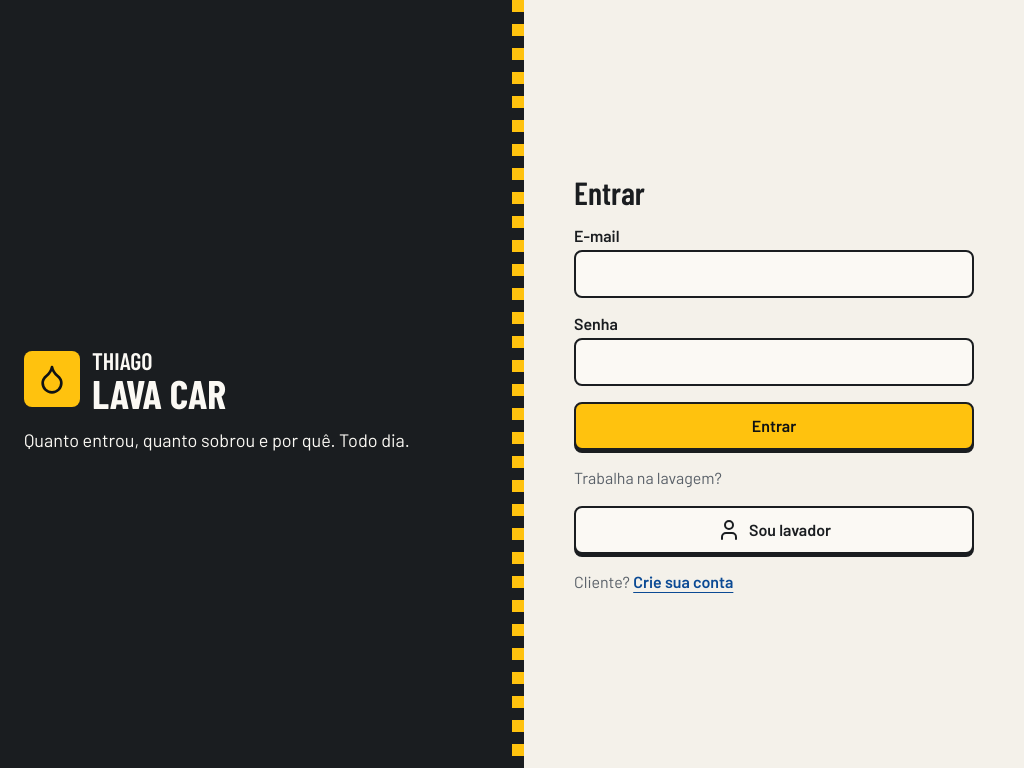
Test: Login › mostra no topo a mensagem da API no erro 401
Step 1. Type "thiago@lavacar.com" into the field labelled "E-mail" → (774, 274), box [574,250,974,298]
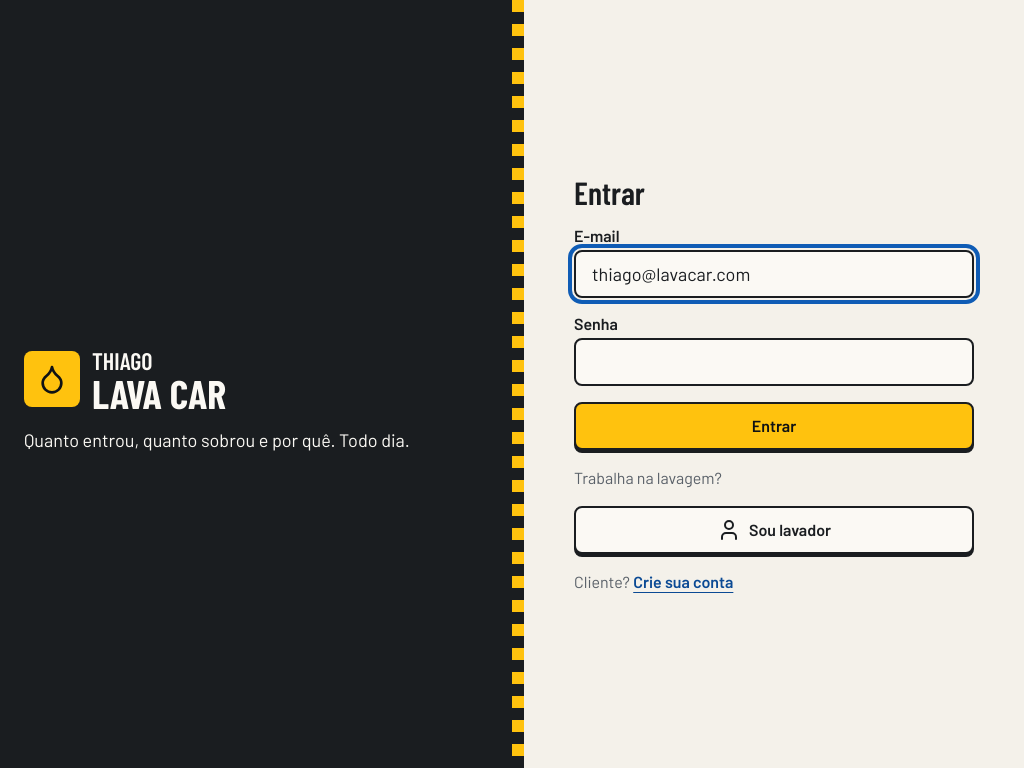
Step 2. Type "errada" into the password field labelled "Senha" → (774, 362), box [574,338,974,386]
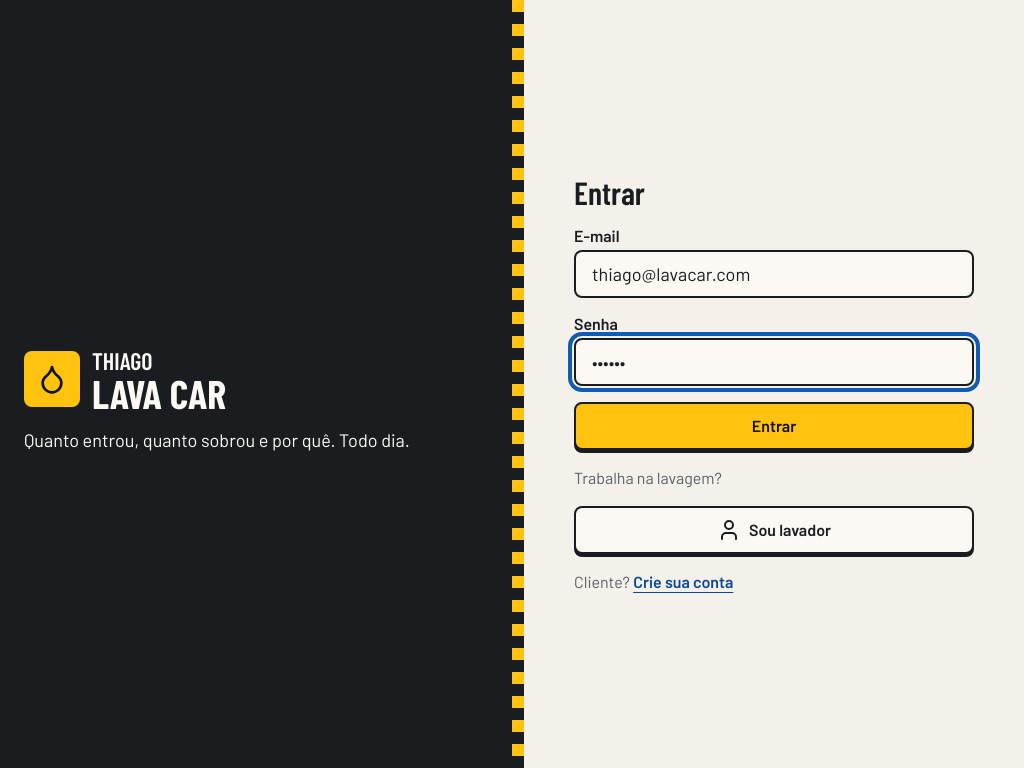
Step 3. Click the button "Entrar" → (774, 426), box [574,402,974,450]
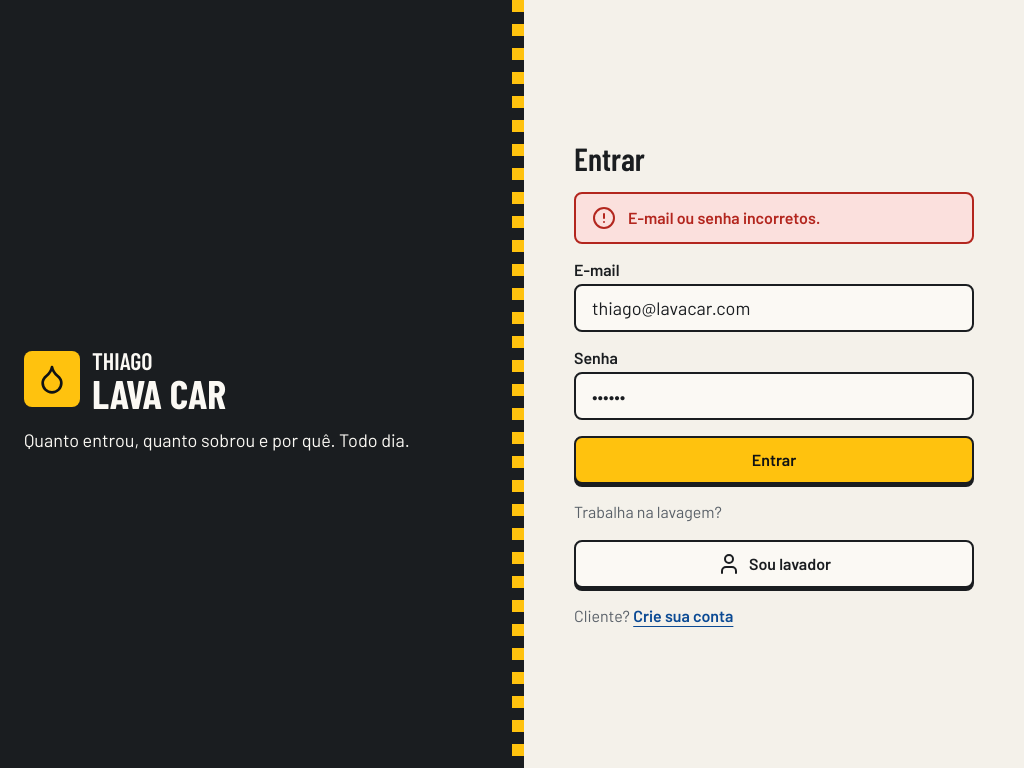
Check: the message reads "E-mail ou senha incorretos.", box [628,208,820,227]
